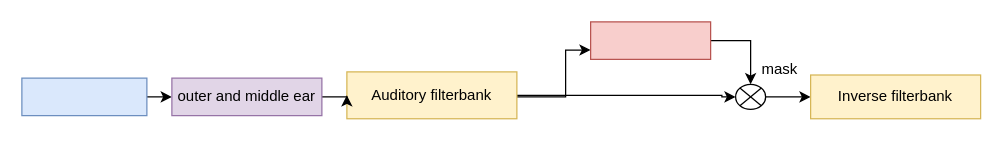
This 1003x141 diagram has some shape labels left out. The box of each missing label's shape, as (x1, y1, x2, y2) in pixels:
Denoiser: (589, 21, 711, 59)
Noisy Waveform: (21, 77, 147, 116)
